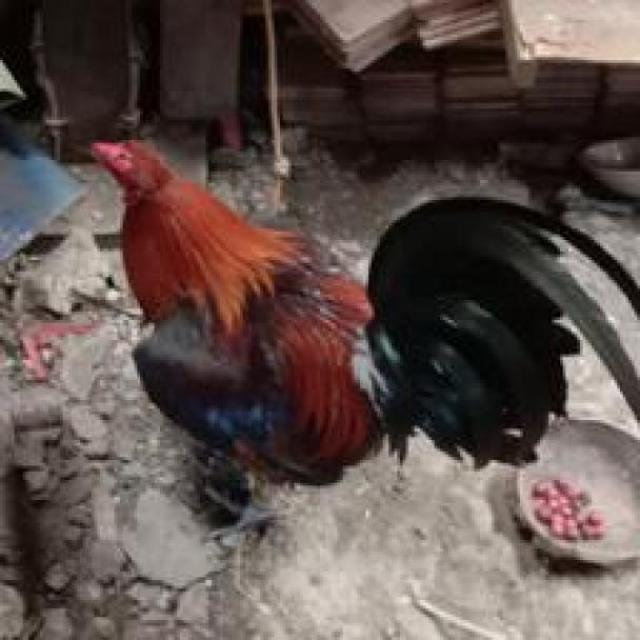Chicken: (79, 111, 640, 550)
